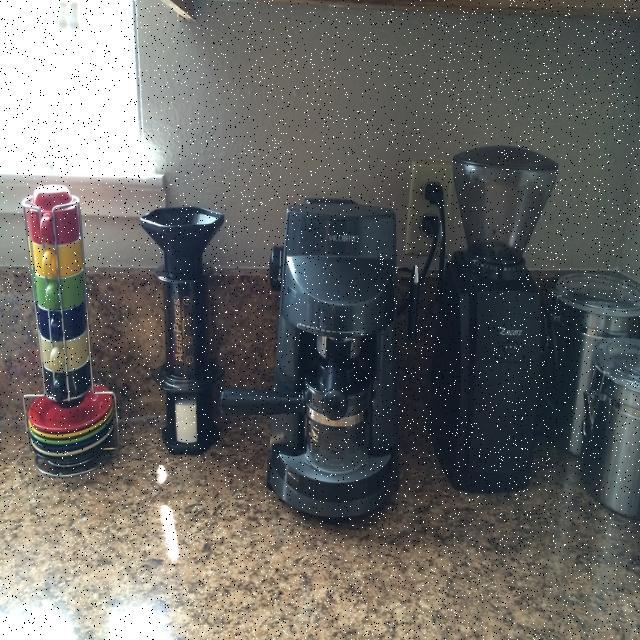Coffee-Machine: (240, 172, 416, 538), (427, 132, 578, 506)
